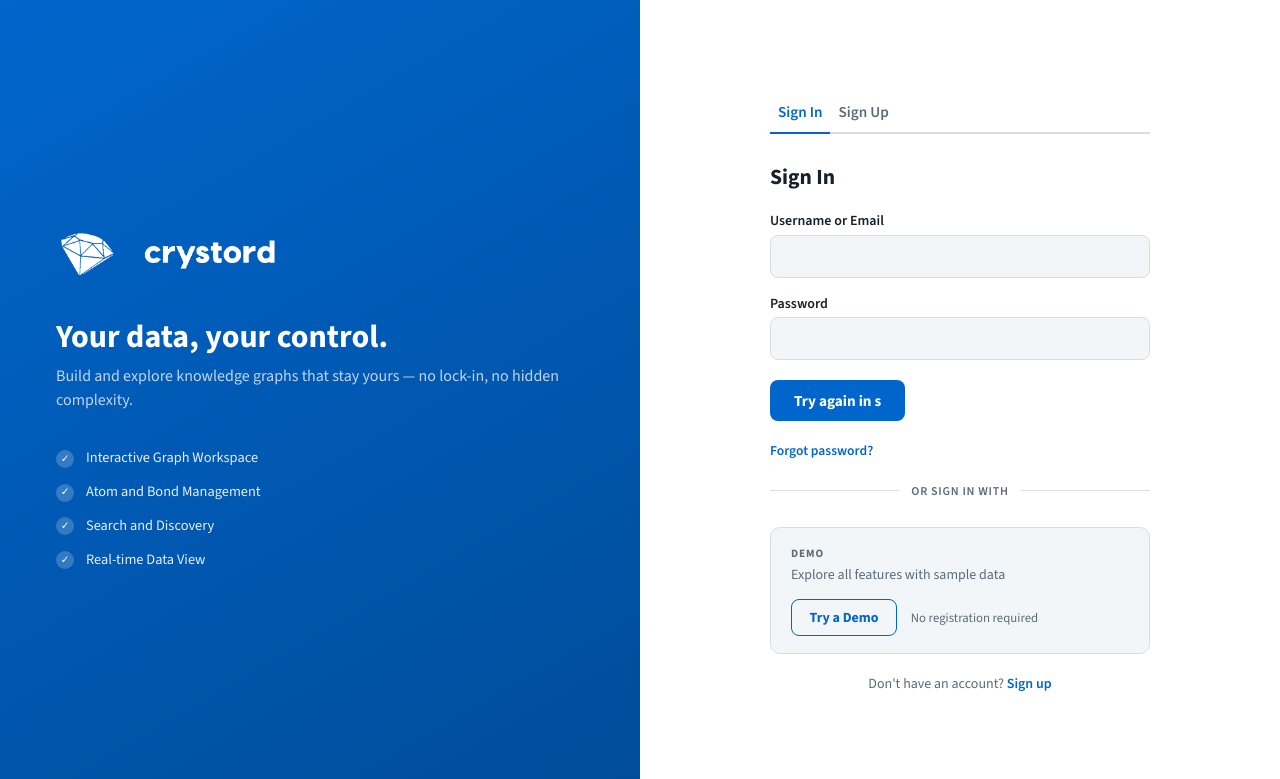
Test: SignInPage › sign-up email step advances to verification via beginSignup
Click the tab "Sign Up" at (864, 113), box [830, 93, 897, 134]
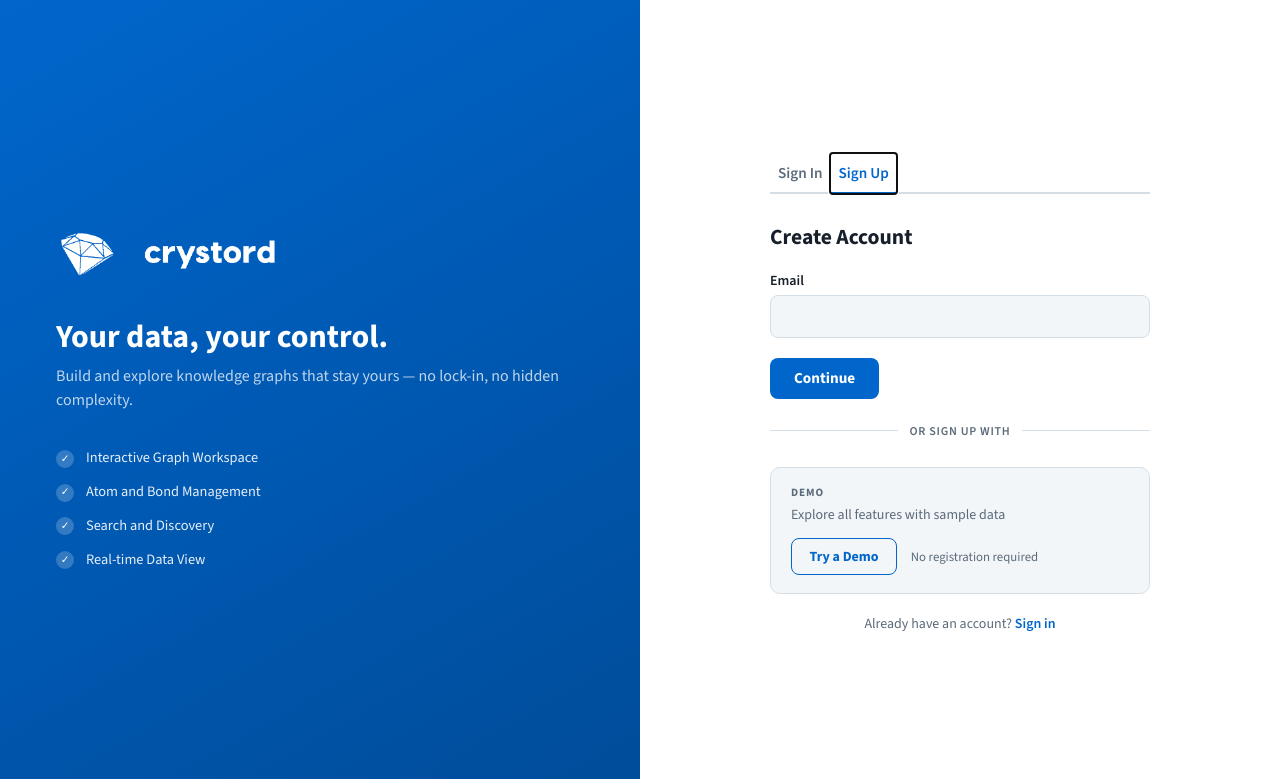
Type "new@example.com" into the field labelled "Email" at (960, 316), box [770, 295, 1150, 338]
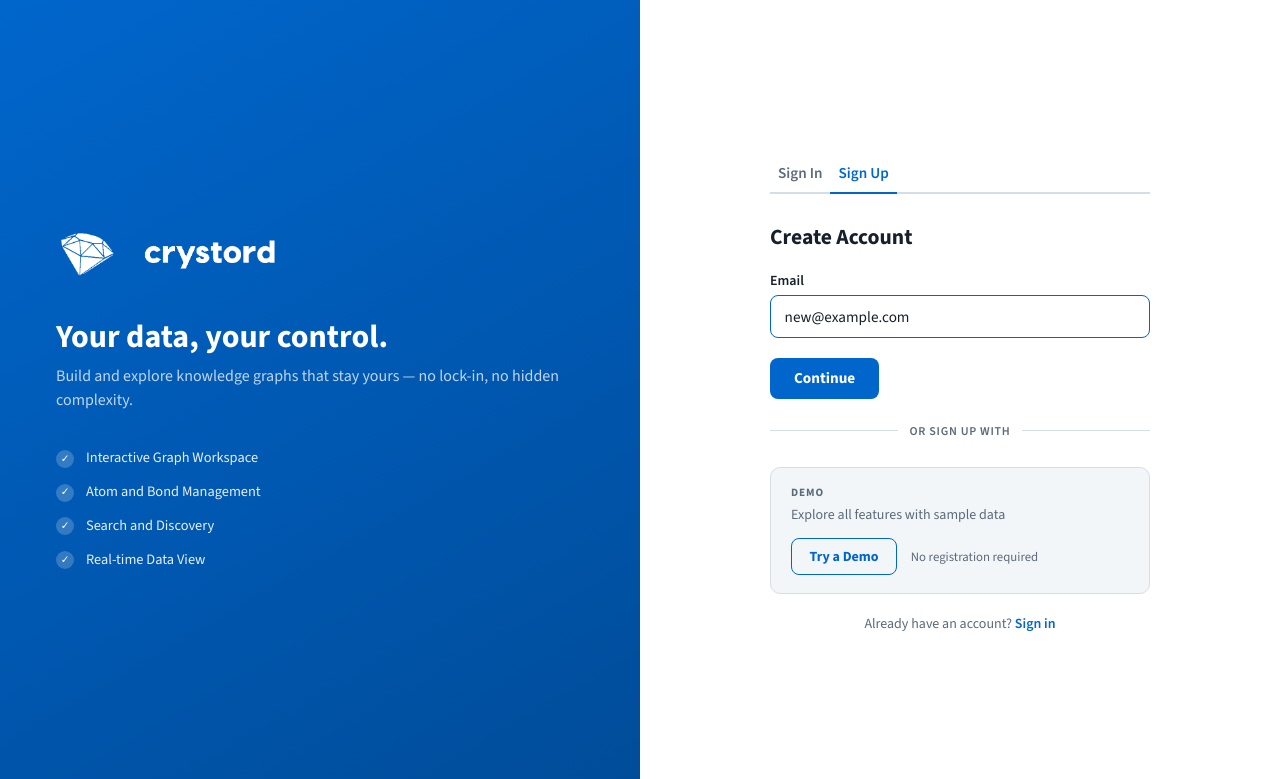
Click the button "Continue" at (825, 378), box [770, 358, 879, 399]
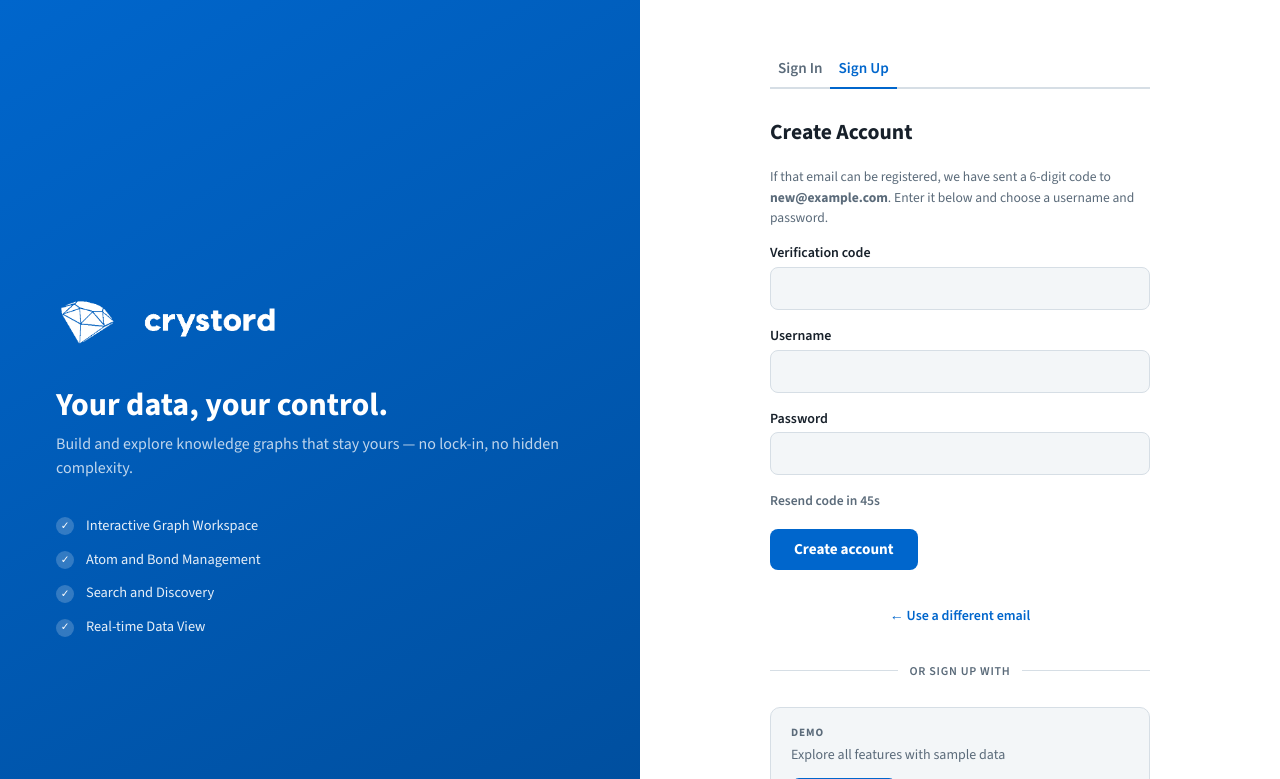
Expected: the field labelled "Verification code" is shown, [770, 267, 1150, 310]
